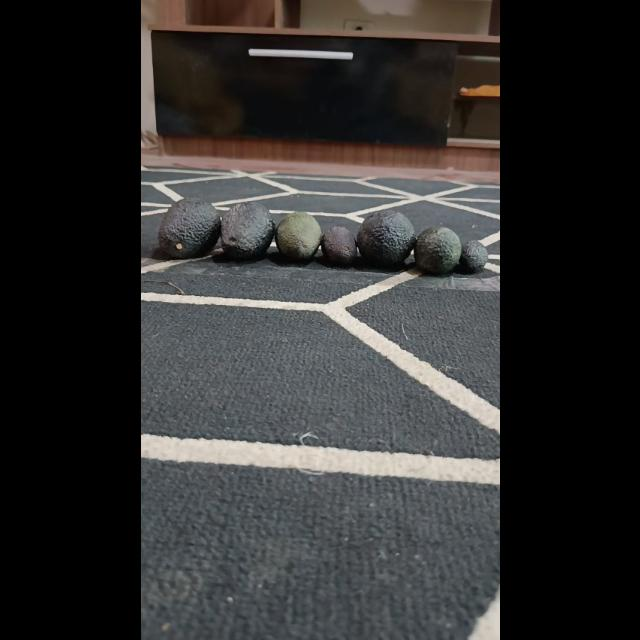Primera: (156, 197, 220, 259), (355, 210, 415, 268), (218, 201, 274, 259)
Segunda: (274, 211, 322, 261), (414, 226, 462, 274)
Tercera: (321, 226, 359, 266), (457, 240, 487, 274)
